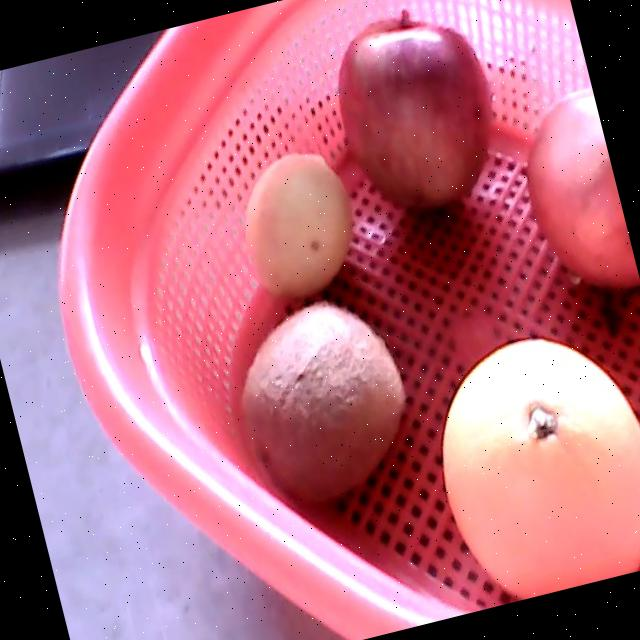apple: (337, 7, 493, 210)
kiwi: (239, 301, 406, 505)
lemon: (243, 151, 352, 298)
orange: (443, 338, 640, 597)
pomegranate: (527, 89, 639, 292)
